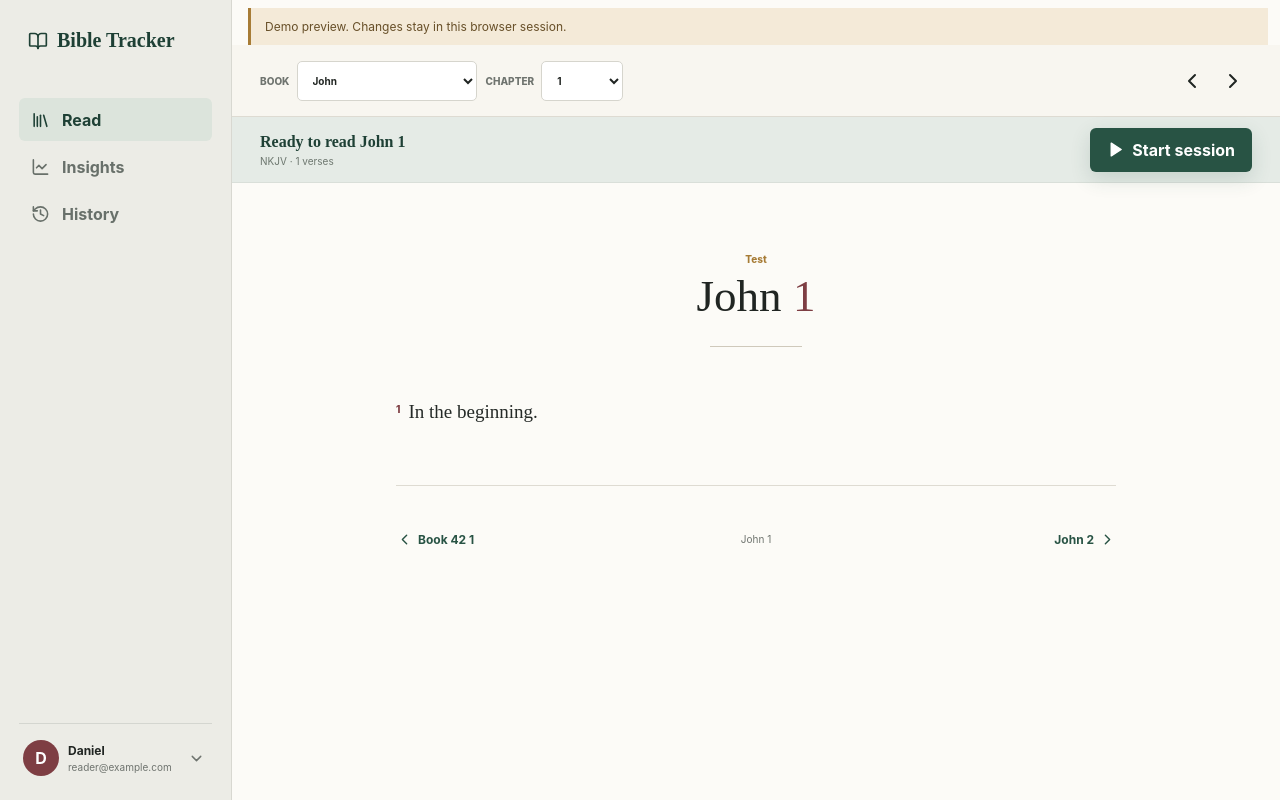
Test: reading session timer › tracks the starting chapter and chapters reached through navigation
Click the button "Start session" at point(1171, 150), box [1090,128,1252,172]
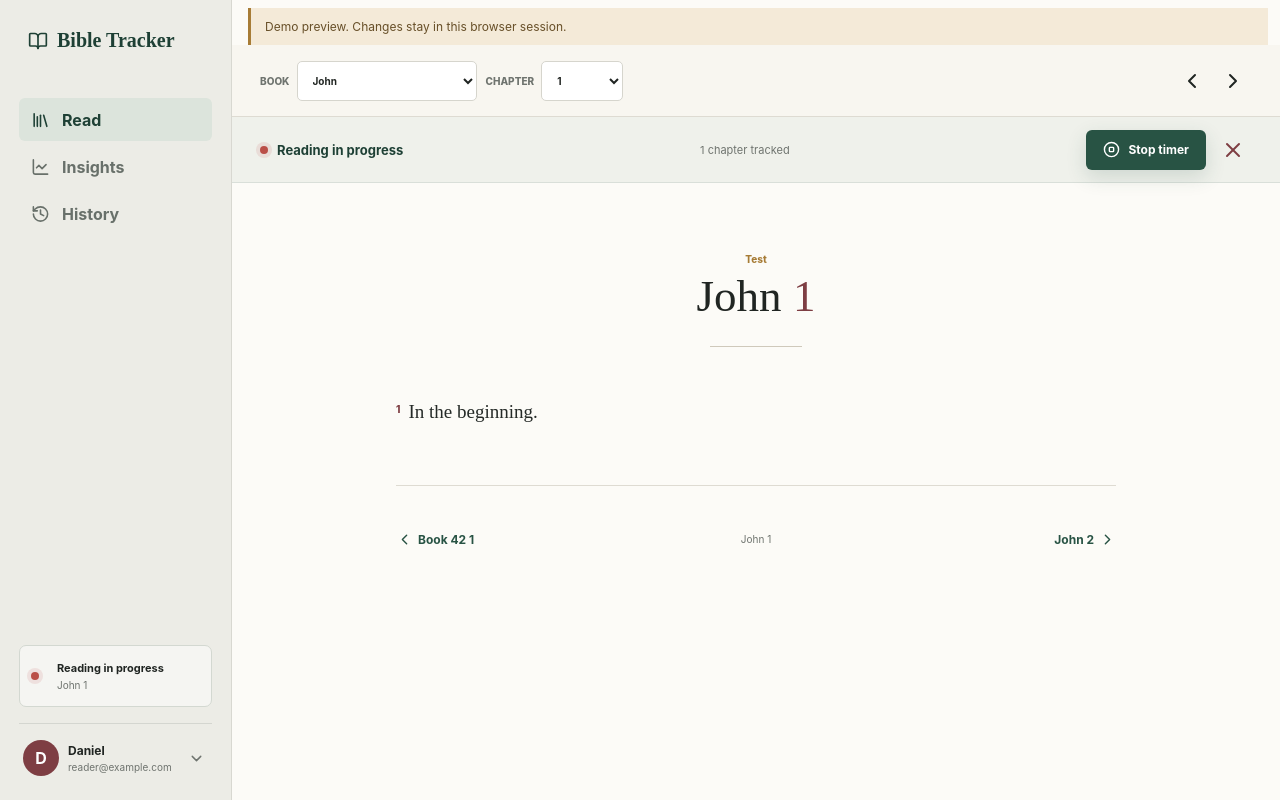
Click the button named "Next chapter" at point(1233, 80), box [1214,62,1252,100]
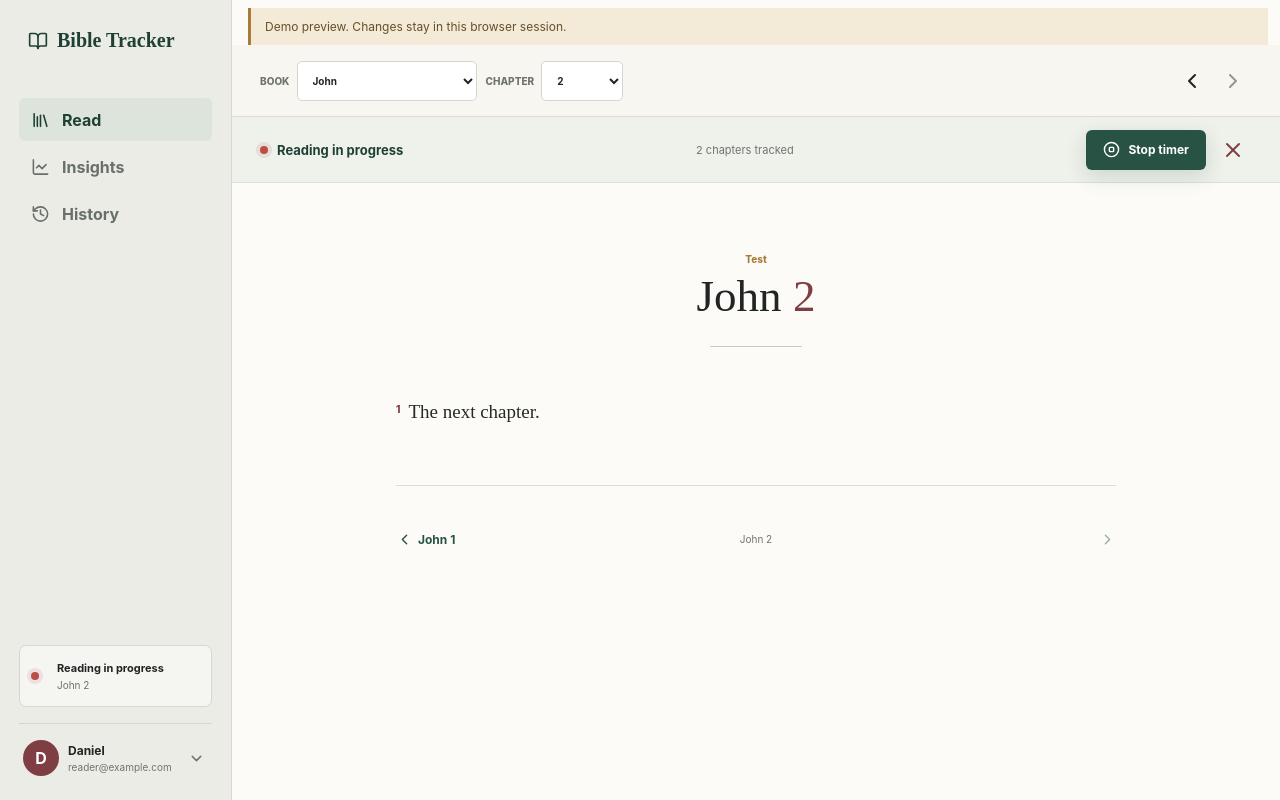
Expected: the text "2 chapters tracked" is shown, [696,142,794,156]
